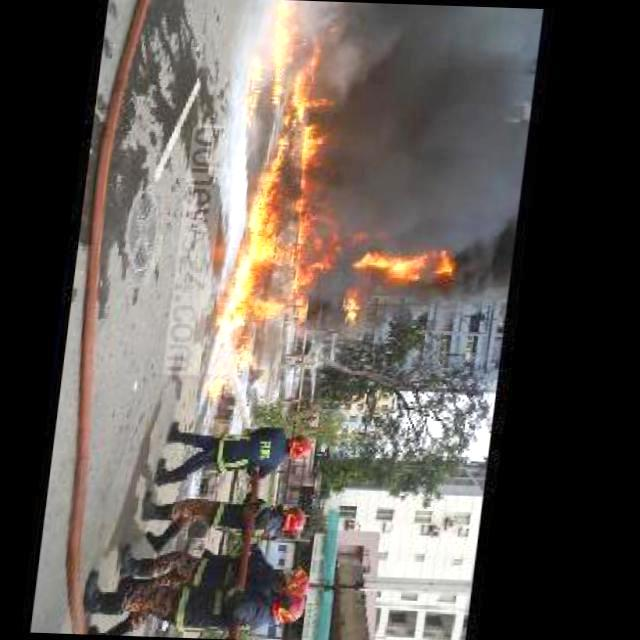fire: (322, 3, 544, 258), (211, 0, 349, 406), (361, 246, 467, 282)
